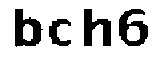6: (116, 7, 150, 52)
b: (12, 6, 45, 49)
c: (47, 16, 73, 49)
h: (78, 4, 113, 51)
